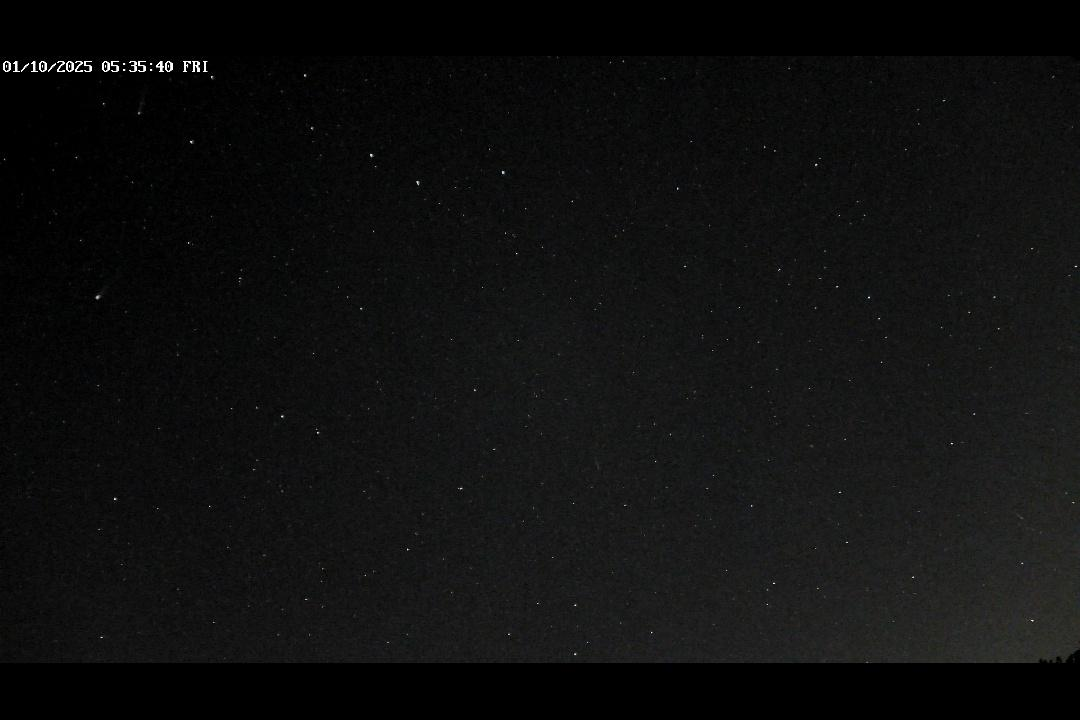Plane: (999, 503, 1038, 533), (90, 281, 115, 305)
